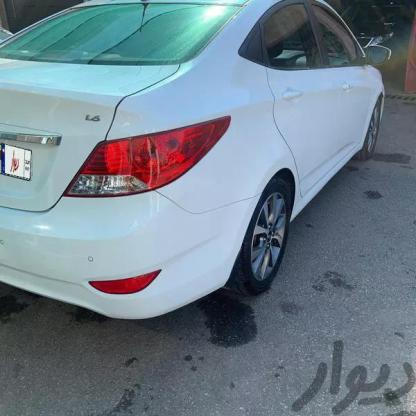Car: (0, 0, 395, 323)
